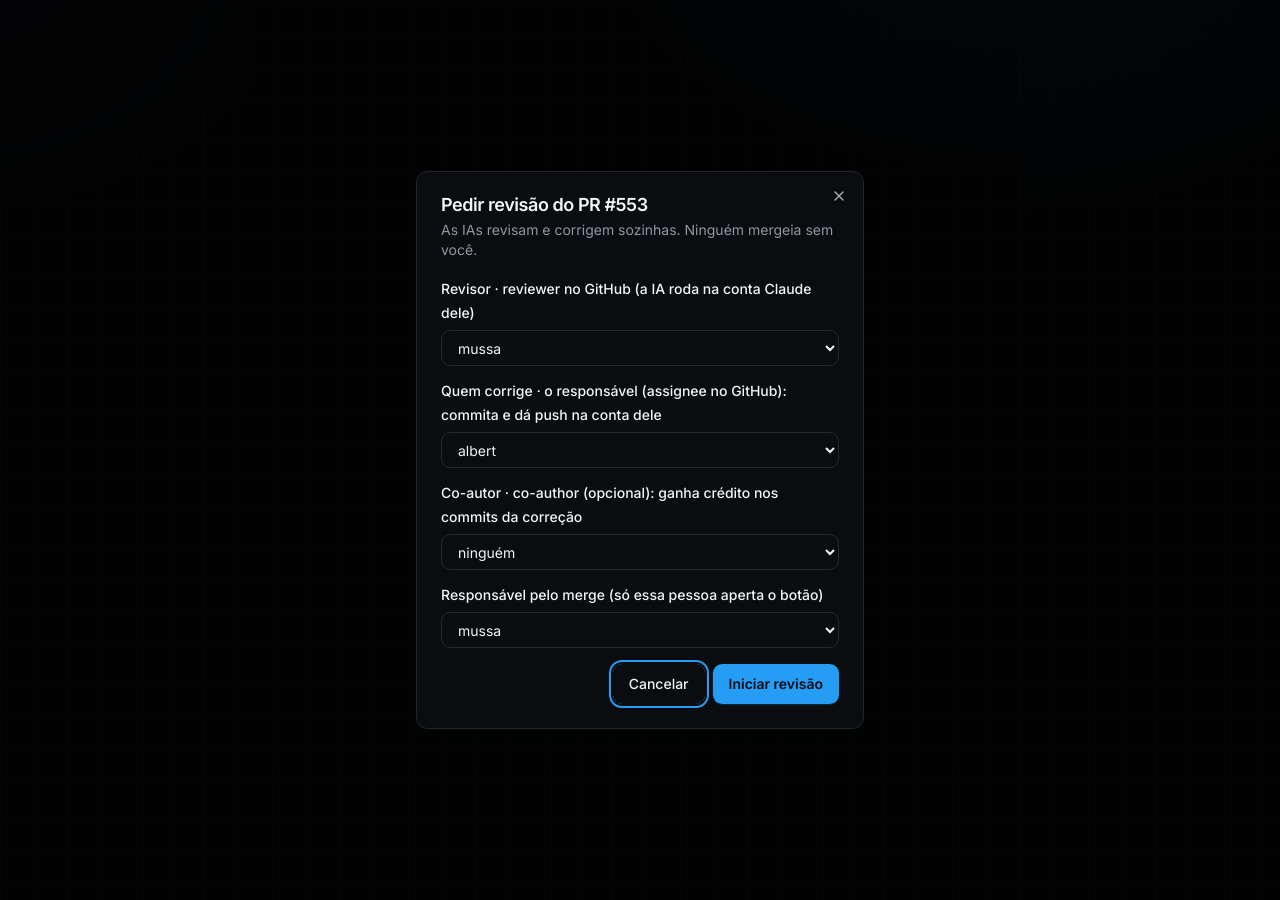
Scenario: RequestReviewDialog › enquanto inicia, o botão mostra um carregamento girando e trava; a janela cabe na tela (90vh, rola por dentro)
The width and height of the screenshot is (1280, 900).
Expected: the dropdown labelled "Revisor" is shown, [441,330,839,366]
Click the button "Iniciar revisão" at (776, 684), box [712,664,839,704]
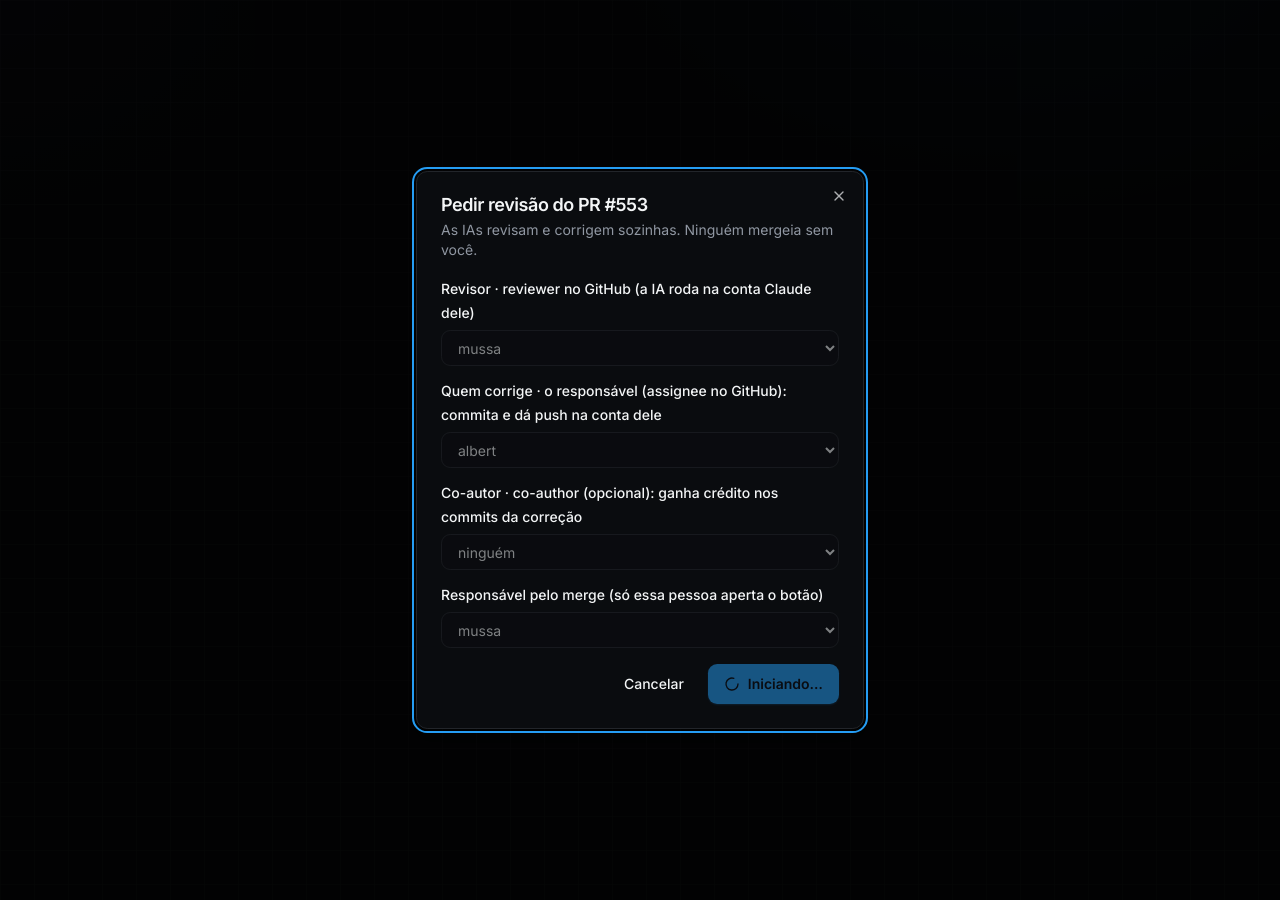
Expected: the button "Iniciando…" is disabled, [708,664,839,704]
Expected: the icon with class "animate-spin" is shown, [724,676,740,692]
